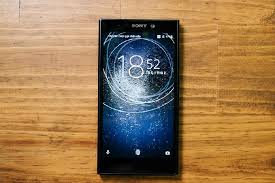sony: (94, 16, 183, 182)
